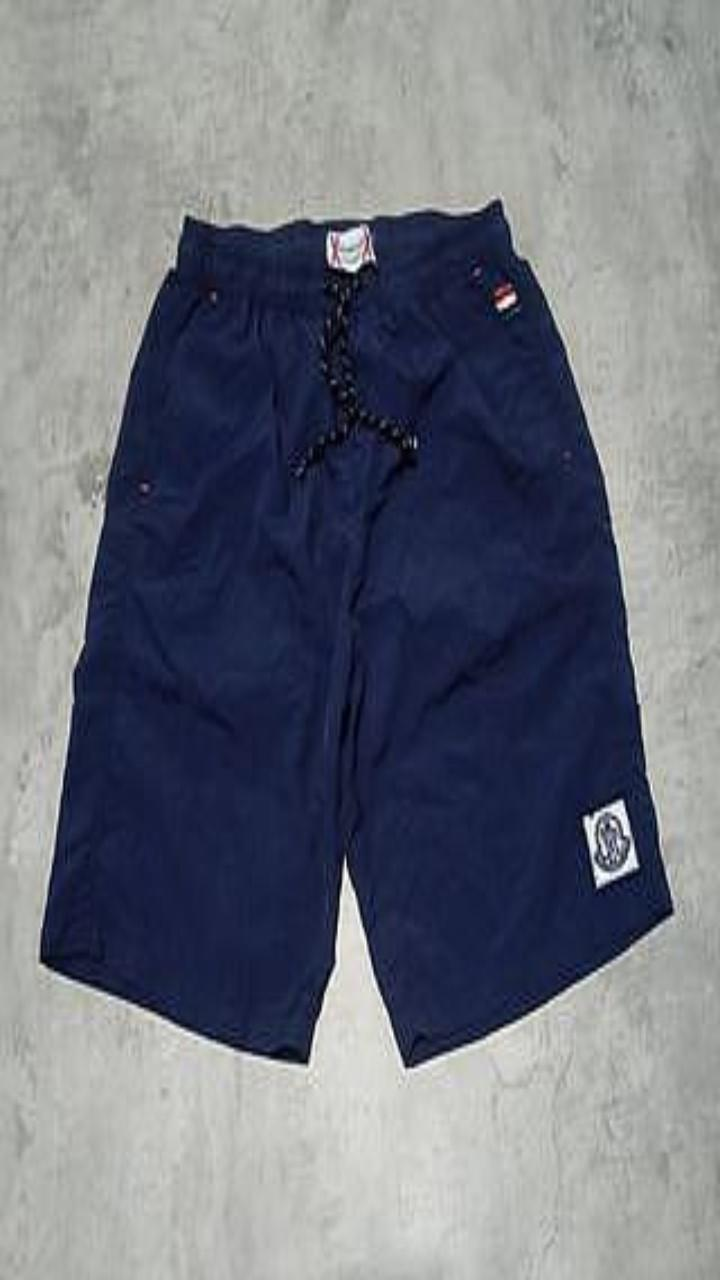Shorts: (40, 200, 672, 1065)
